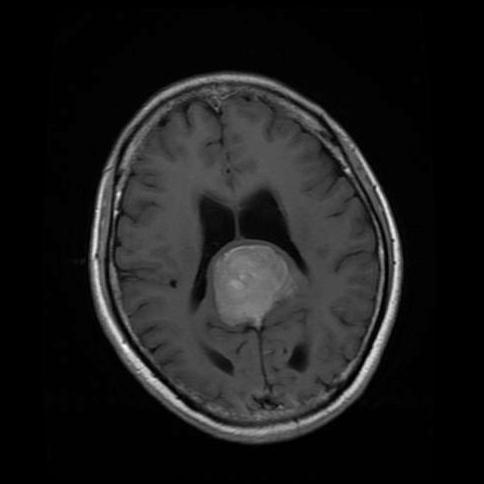Tumour-Meningioma: (194, 232, 319, 333)
